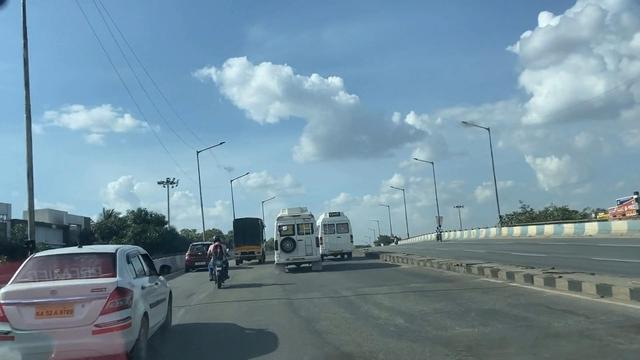HMV: (273, 208, 319, 280), (311, 209, 353, 272), (231, 213, 269, 270)
LMV: (9, 247, 177, 360), (199, 237, 232, 291)
RoadDamages: (275, 290, 495, 360)
